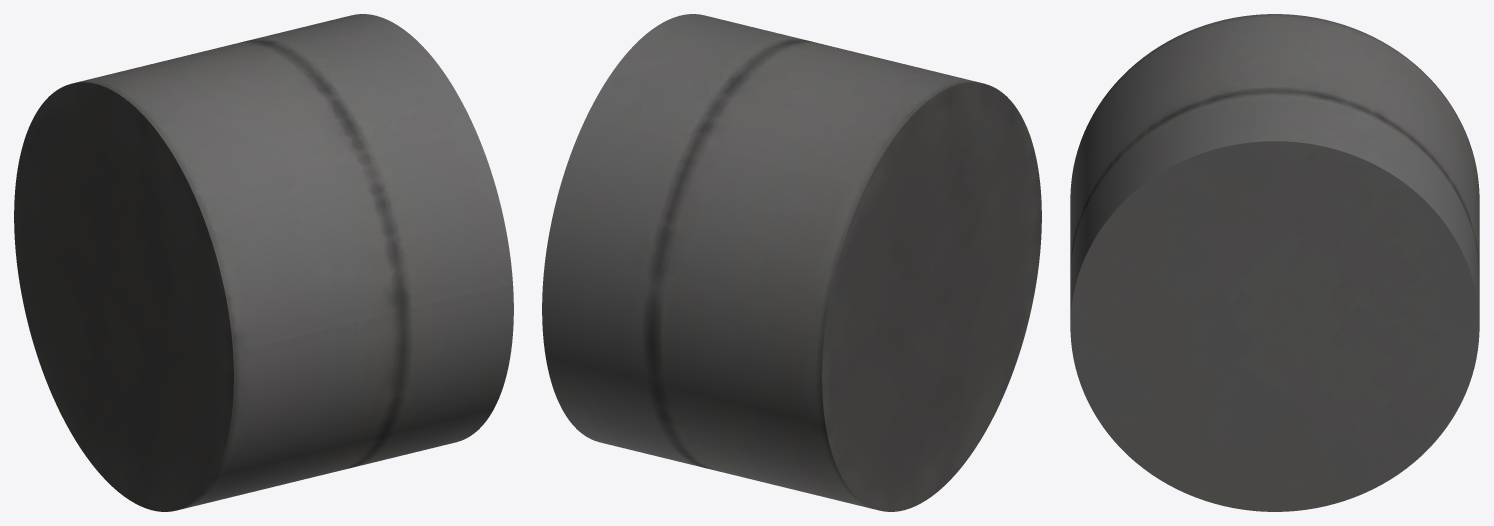
File: power_button__button_lens.glb
3 renders of one model, left to right at view 1: azimuth 30°, elevation 25°; view 2: azimuth 150°, elevation 25°; view 3: azimuth 270°, elevation 25°, orthographic. The views are drawn at different scales.
Visible parts, largest first — view 1: geometry_0; view 2: geometry_0; view 3: geometry_0.
Part boxes in pixels (x1=…): geometry_0: x1=14, y1=14, x2=513, y2=511; geometry_0: x1=542, y1=14, x2=1041, y2=511; geometry_0: x1=1070, y1=14, x2=1479, y2=511.
Bounding box in the file's own units: 0.01 × 0.0136 × 0.0136.
Materials: 1 (1 with a texture image).
